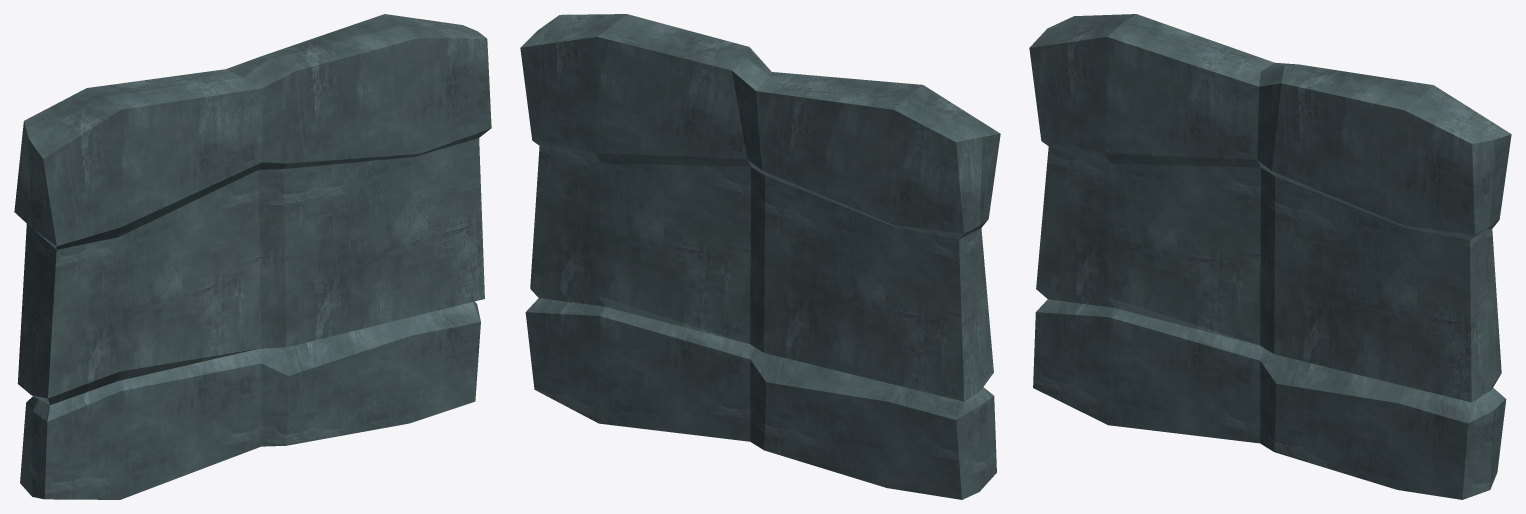
The model's file is RockWall_1.fbx.
The picture shows the model from 3 angles, left to right: view 1: azimuth 30°, elevation 25°; view 2: azimuth 150°, elevation 25°; view 3: azimuth 330°, elevation 25°; orthographic projection.
Visible parts, largest first — view 1: polySurface12; view 2: polySurface12; view 3: polySurface12.
Part boxes in pixels (bbox=[...]): polySurface12: bbox=[14, 14, 491, 499]; polySurface12: bbox=[520, 14, 1000, 499]; polySurface12: bbox=[1029, 14, 1511, 499].
Size of the model in its own units: 18.45 by 15.47 by 2.4.
